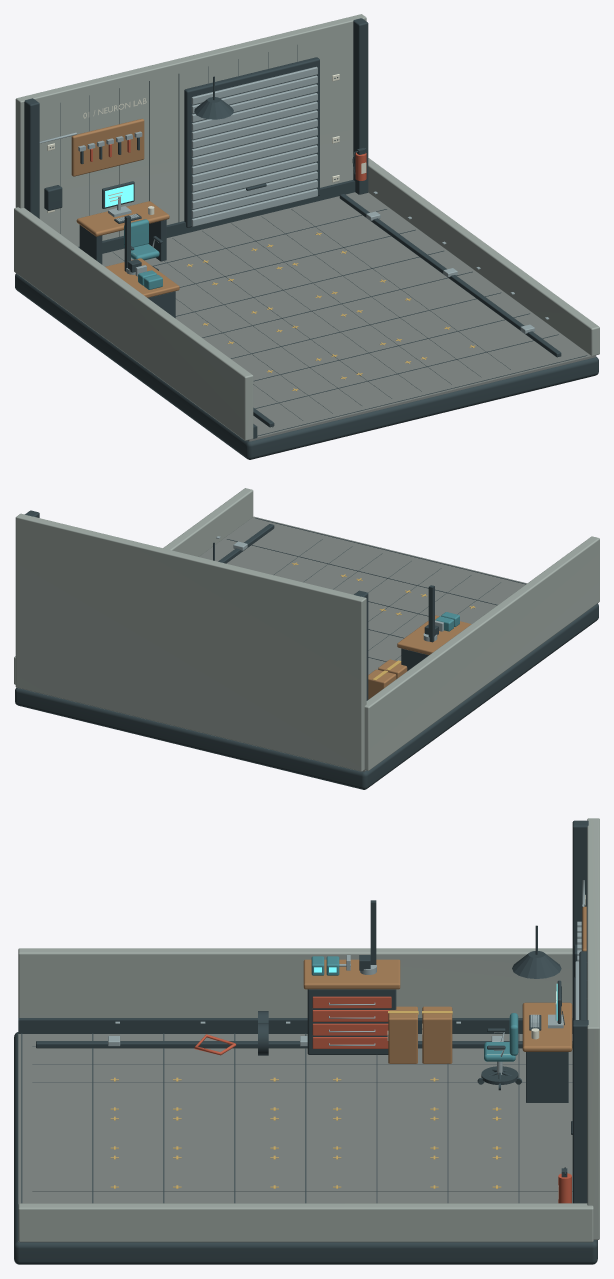
Rendered from garage.glb.
The picture shows the model from 3 angles, top to bottom: view 1: azimuth 30°, elevation 25°; view 2: azimuth 150°, elevation 25°; view 3: azimuth 270°, elevation 25°; orthographic projection. The views are drawn at different scales.
Parts seen in each view (by area): view 1: SM_garage_01_mineral_floor, SM_garage_02_painted_plaster, SM_garage_03_charcoal_steel, SM_garage_04_brushed_alloy, SM_garage_05_warm_oak, SM_garage_08_glass, SM_garage_06_ivory; view 2: SM_garage_02_painted_plaster, SM_garage_01_mineral_floor, SM_garage_03_charcoal_steel, SM_garage_05_warm_oak; view 3: SM_garage_01_mineral_floor, SM_garage_02_painted_plaster, SM_garage_03_charcoal_steel, SM_garage_05_warm_oak, SM_garage_09_vermilion, SM_garage_04_brushed_alloy, SM_garage_08_glass, SM_garage_11_safety_paint.
Part boxes in pixels (x1,y1,x2,y2): SM_garage_01_mineral_floor: (102,192,595,441); SM_garage_02_painted_plaster: (14,14,599,440); SM_garage_03_charcoal_steel: (15,18,598,459); SM_garage_04_brushed_alloy: (39,66,549,333); SM_garage_05_warm_oak: (71,118,179,297); SM_garage_08_glass: (124,219,162,289); SM_garage_06_ivory: (47,74,366,255); SM_garage_02_painted_plaster: (14,488,599,771); SM_garage_01_mineral_floor: (199,516,526,771); SM_garage_03_charcoal_steel: (15,510,598,789); SM_garage_05_warm_oak: (368,615,471,699); SM_garage_01_mineral_floor: (18,1034,593,1241); SM_garage_02_painted_plaster: (18,818,599,1242); SM_garage_03_charcoal_steel: (14,820,597,1264); SM_garage_05_warm_oak: (303,906,586,1063); SM_garage_09_vermilion: (194,996,571,1203); SM_garage_04_brushed_alloy: (108,880,584,1074); SM_garage_08_glass: (311,956,518,1061); SM_garage_11_safety_paint: (110,1011,501,1188).
Size of the model in its own units: 7.18 by 3.68 by 8.25.
